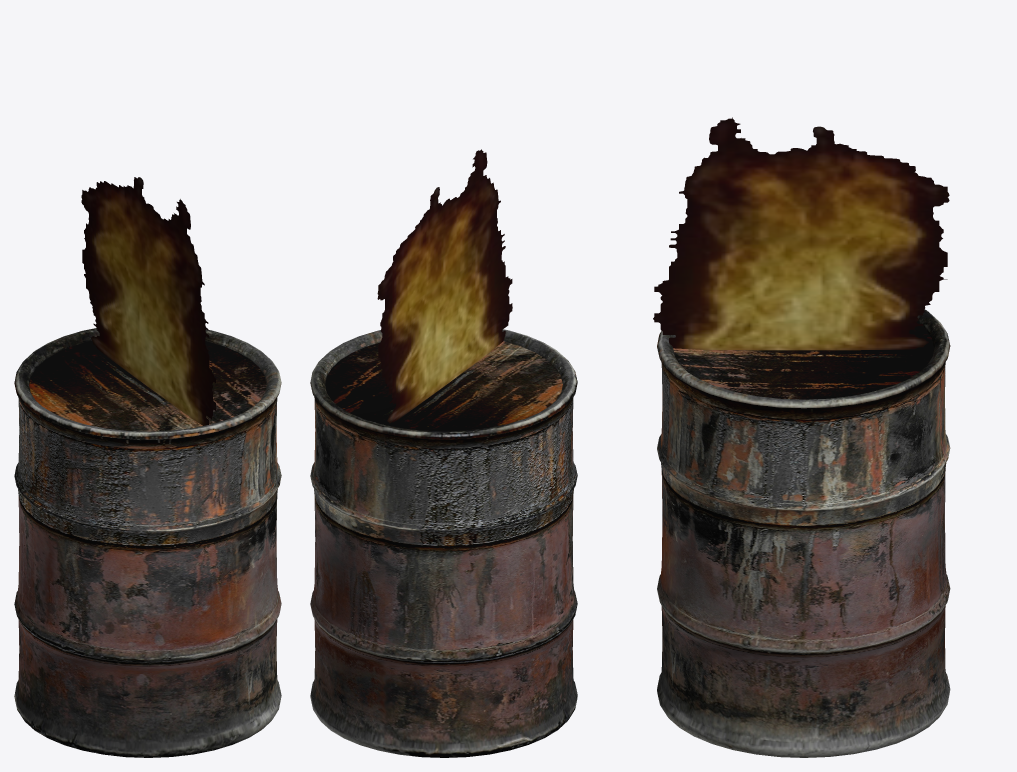
Rendered from barrel_1_fire.obj.
The picture shows the model from 3 angles, left to right: view 1: azimuth 30°, elevation 25°; view 2: azimuth 150°, elevation 25°; view 3: azimuth 270°, elevation 25°; orthographic projection. The views are drawn at different scales.
Parts seen in each view (by area): view 1: barrel2, fire; view 2: barrel2, fire; view 3: barrel2, fire.
Boxes of the visible parts, x1,y1,x2,y2 form: barrel2: [14, 328, 281, 757]; fire: [81, 177, 216, 425]; barrel2: [310, 329, 577, 757]; fire: [377, 149, 512, 423]; barrel2: [657, 309, 950, 757]; fire: [653, 117, 949, 350].
Size of the model in its own units: 26.58 by 68.5 by 35.92.
2 materials, 2 textured.
